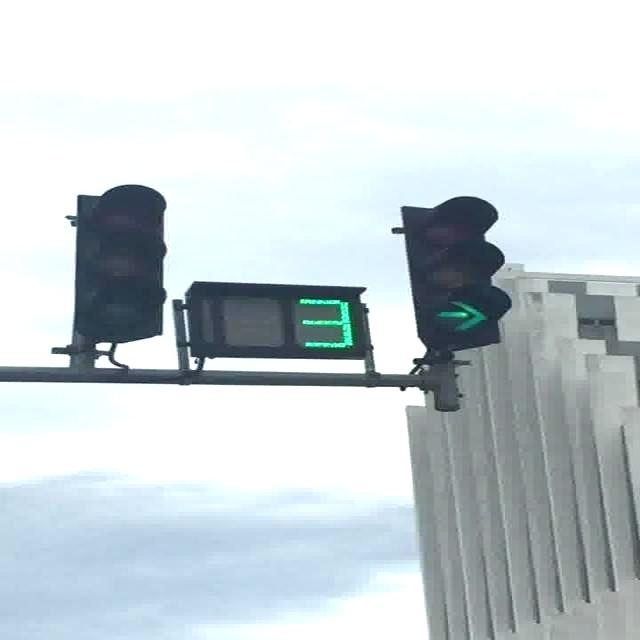Green: (399, 194, 512, 348)
